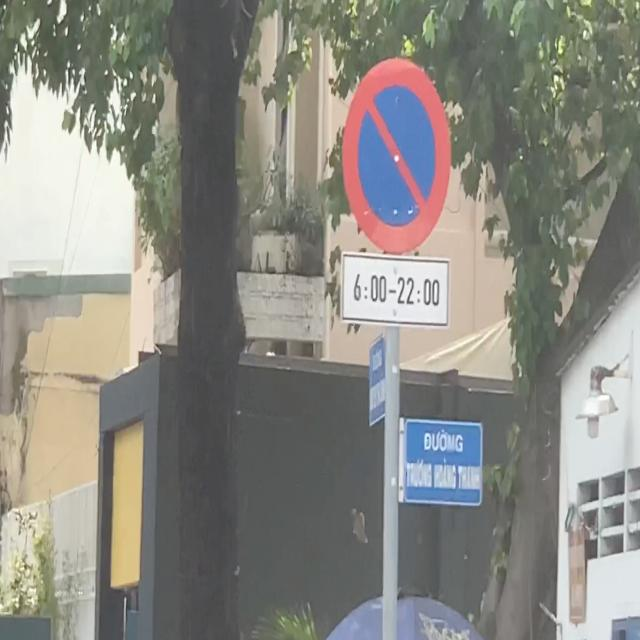Cam do: (342, 56, 451, 255)
